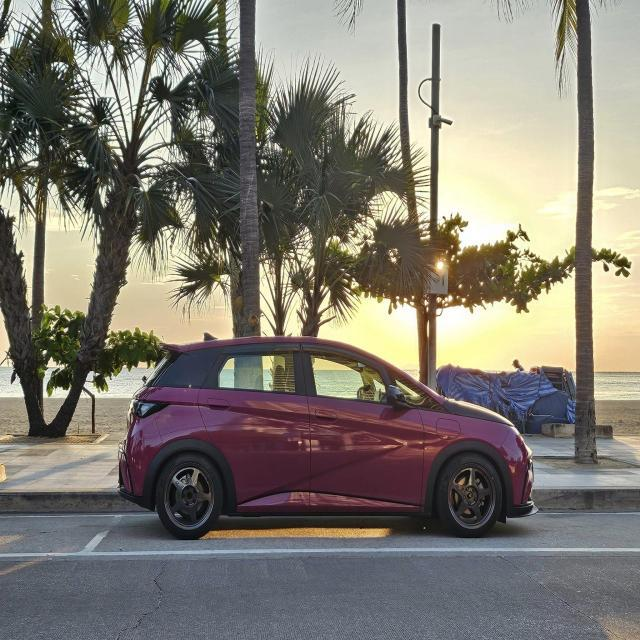Hatchback: (118, 338, 535, 543)
